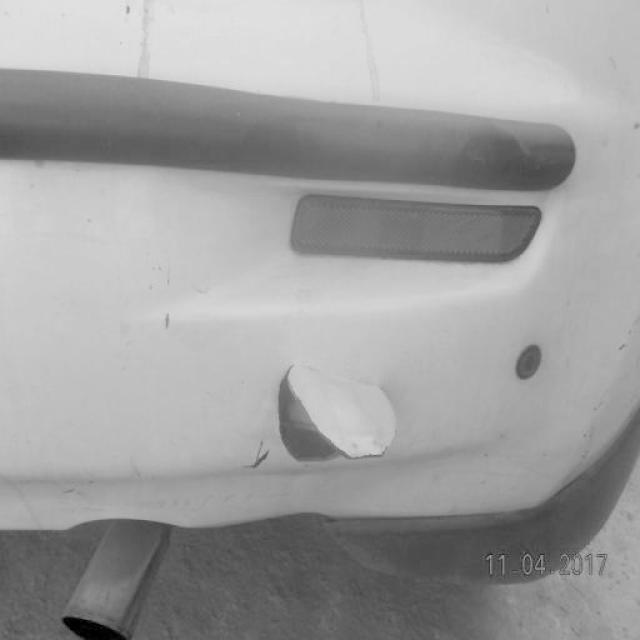car damage: (272, 359, 404, 463), (240, 431, 277, 475)
